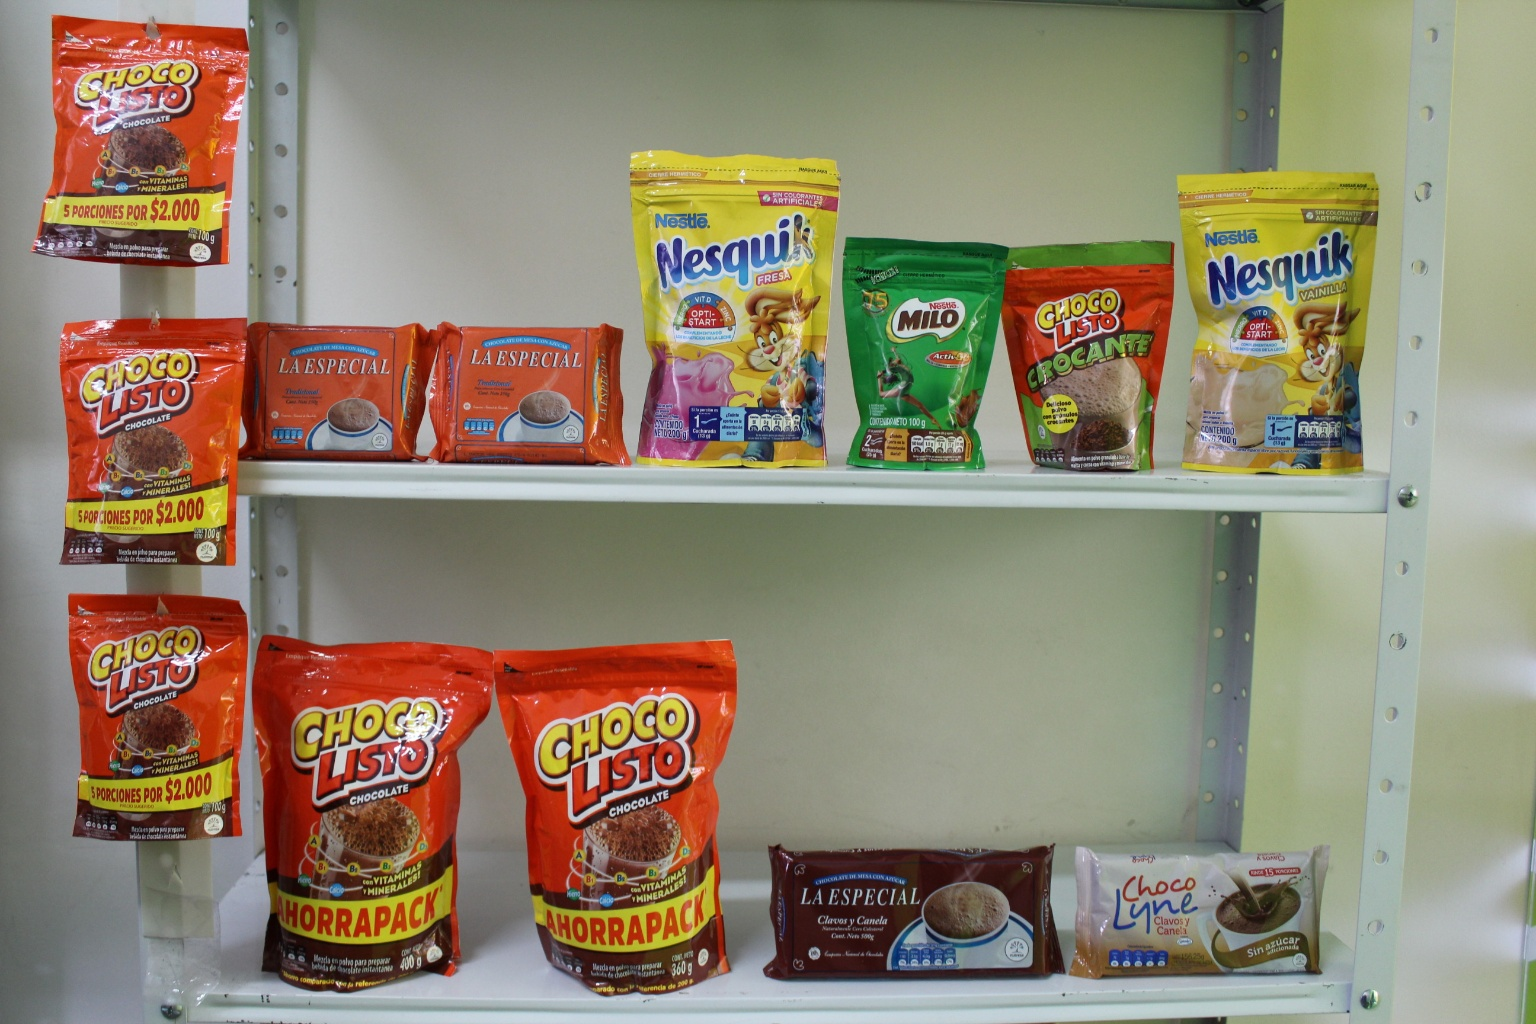COL0170102DYP10000: (986, 222, 1179, 464)
COL0170103DYP10000: (34, 5, 249, 272)
COL0170103DYP36000: (486, 643, 743, 986)
COL0170103DYP40000: (239, 626, 485, 970)
COL0170203DYP10000: (843, 226, 1005, 471)
COL0170305DYP20000: (614, 136, 839, 464)
COL0170306DYP20000: (1186, 170, 1378, 459)
